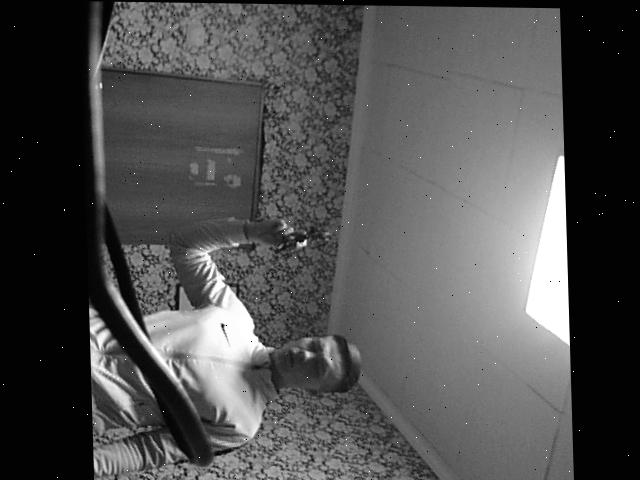drone: (265, 204, 336, 273)
